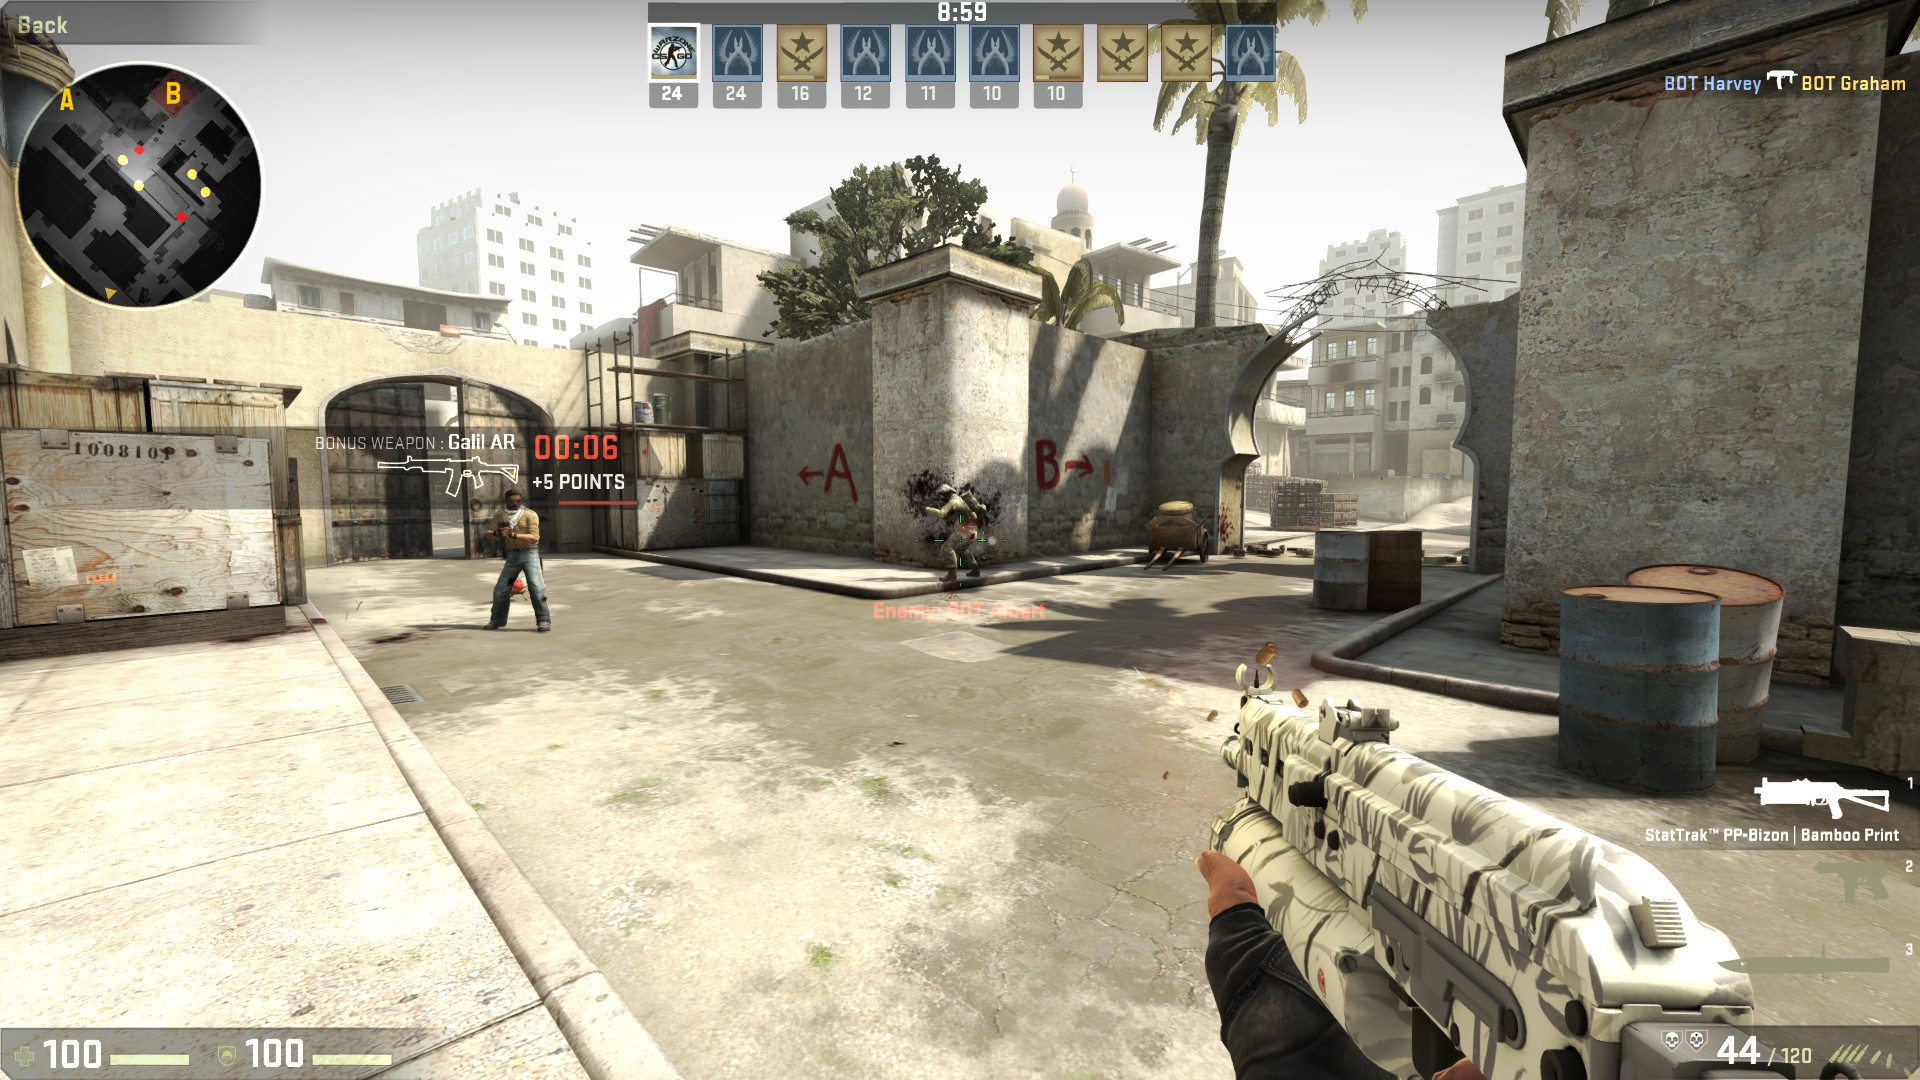c: (934, 483, 982, 580)
ch: (934, 484, 953, 502)
t: (488, 488, 543, 637)
th: (502, 489, 525, 512)
